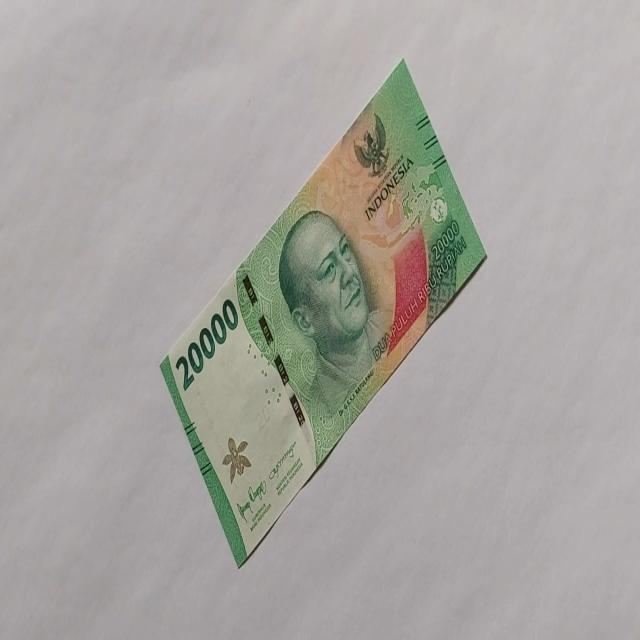dua puluh ribu rupiah: (158, 56, 488, 568), (276, 207, 391, 417), (174, 296, 238, 392)
